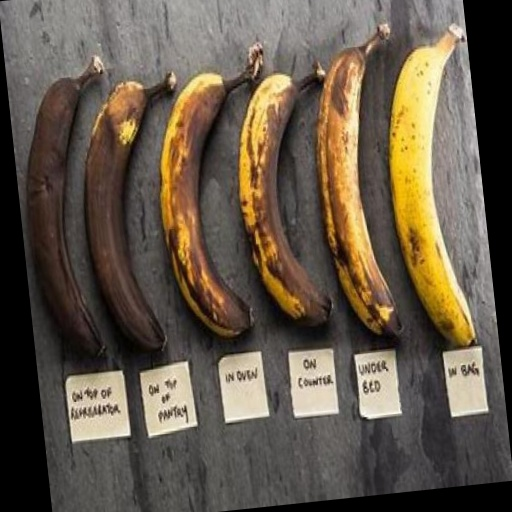fruit: (160, 44, 262, 336), (390, 25, 475, 346), (317, 24, 401, 334), (85, 73, 176, 350), (239, 65, 331, 325), (26, 57, 103, 355)
